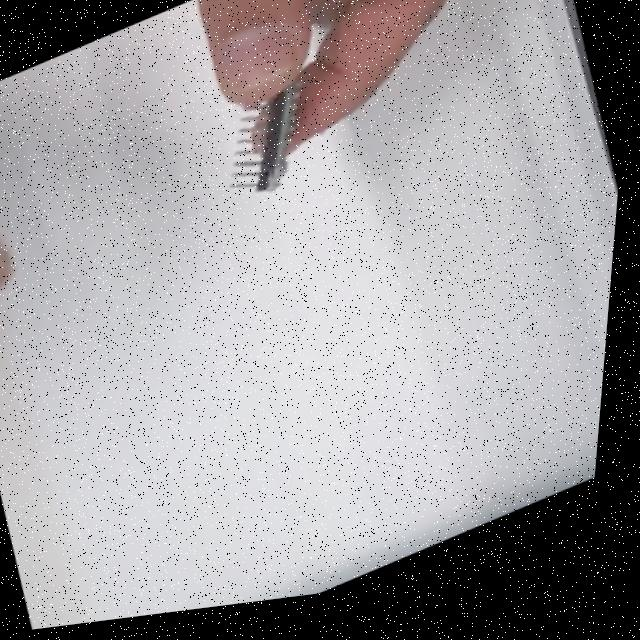Chip: (202, 73, 321, 210)
